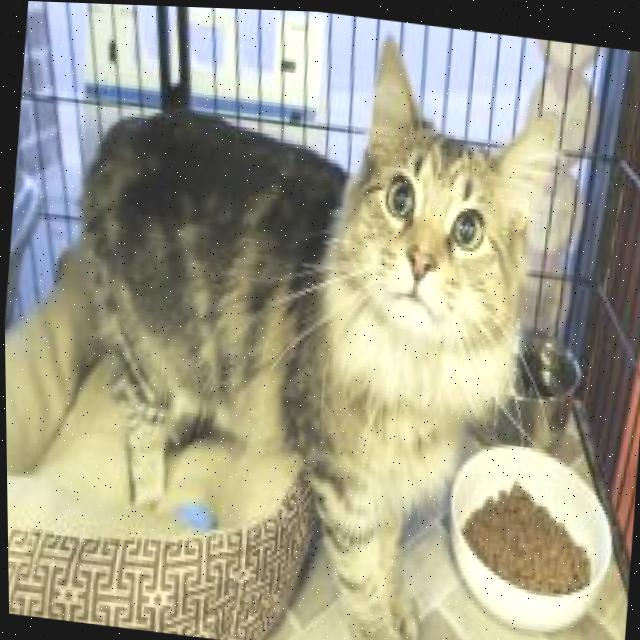Maine Coon: (39, 1, 570, 640)
